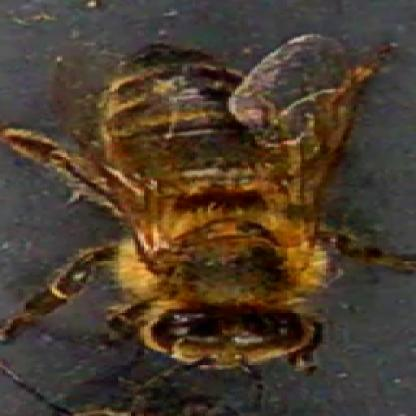bee: (57, 45, 352, 362)
